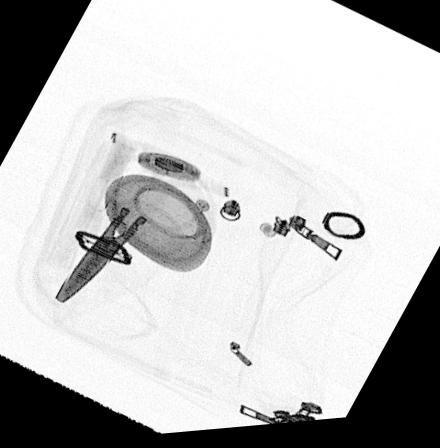Scissors: (47, 205, 154, 310)
